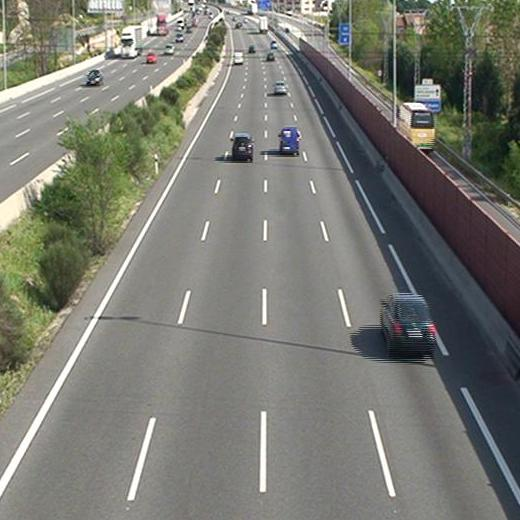car: (379, 295, 434, 354), (232, 134, 253, 158), (273, 80, 286, 94), (266, 51, 274, 60)
van: (279, 127, 299, 151), (234, 50, 244, 64)
